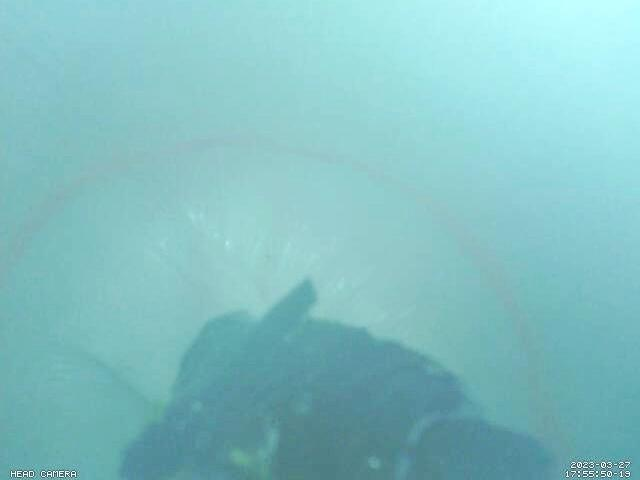head: (1, 133, 555, 444)
